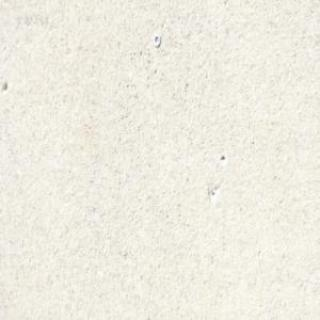Washertrack_idkeyframe: (152, 33, 160, 46)
